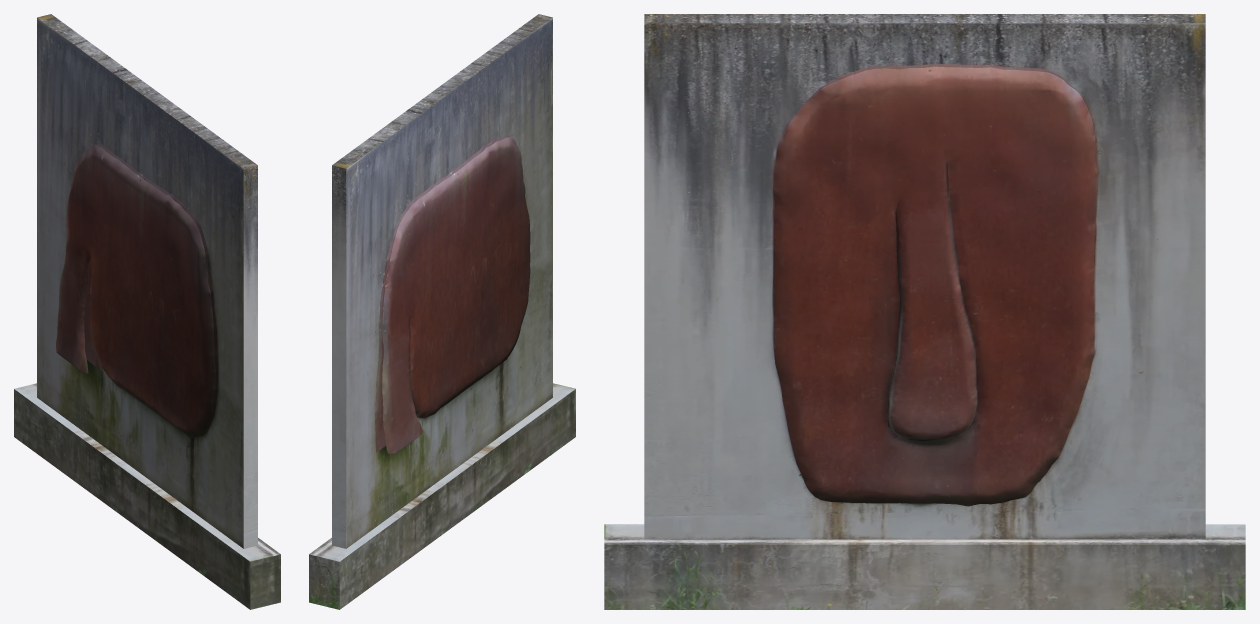
File: preview.glb
3 views of the same model, side by side, from view 1: azimuth 30°, elevation 25°; view 2: azimuth 150°, elevation 25°; view 3: azimuth 270°, elevation 25° (orthographic). The views are drawn at different scales.
Parts seen in each view (by area): view 1: Material2 (×3); view 2: Material2 (×3); view 3: Material2.
Boxes of the visible parts, left/top/right/bottom form: Material2 (×3): left=14, top=14, right=280, bottom=609; Material2 (×3): left=309, top=14, right=575, bottom=609; Material2: left=604, top=14, right=1245, bottom=609.
Bounding box in the file's own units: 16.81 × 157 × 157.
4 materials, 3 textured.
